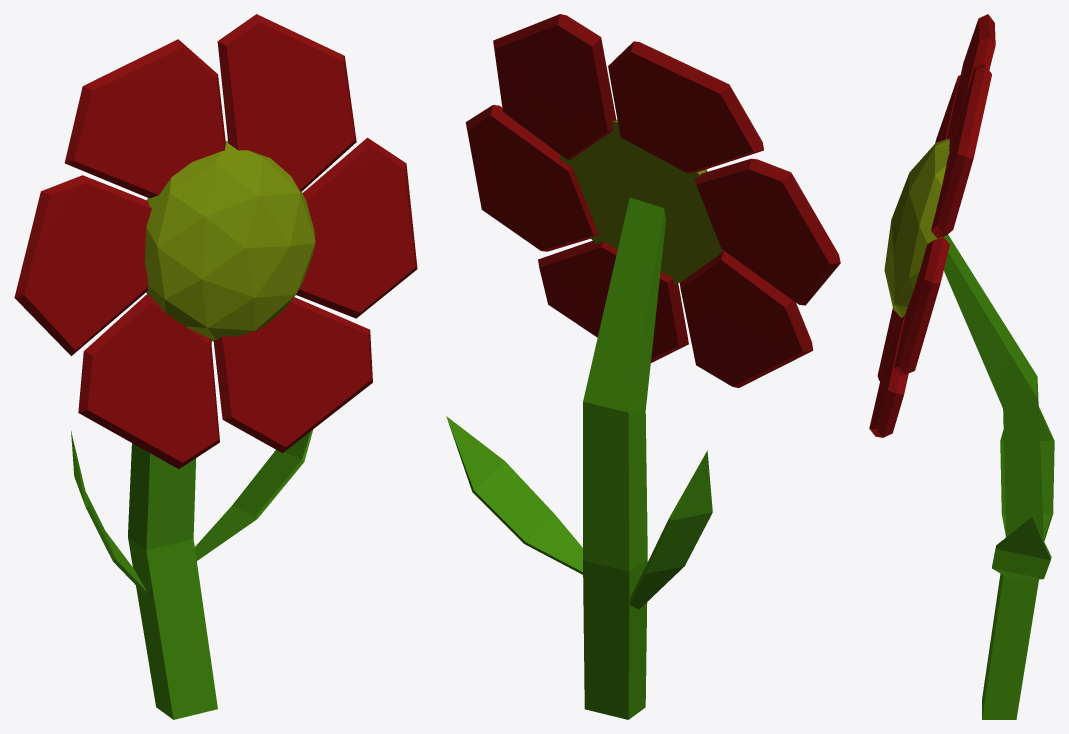
The model's file is Flower_c_02.fbx.
3 views of the same model, side by side, from view 1: azimuth 30°, elevation 25°; view 2: azimuth 150°, elevation 25°; view 3: azimuth 270°, elevation 25° (orthographic).
Visible parts, largest first — view 1: Flower_c_02_LOD0; view 2: Flower_c_02_LOD0; view 3: Flower_c_02_LOD0.
Part boxes in pixels (bbox=[...]): Flower_c_02_LOD0: bbox=[14, 14, 417, 719]; Flower_c_02_LOD0: bbox=[446, 14, 840, 719]; Flower_c_02_LOD0: bbox=[869, 14, 1054, 719].
Size of what is drawn, in the model's own units: 2.9 by 4.9 by 1.22.
